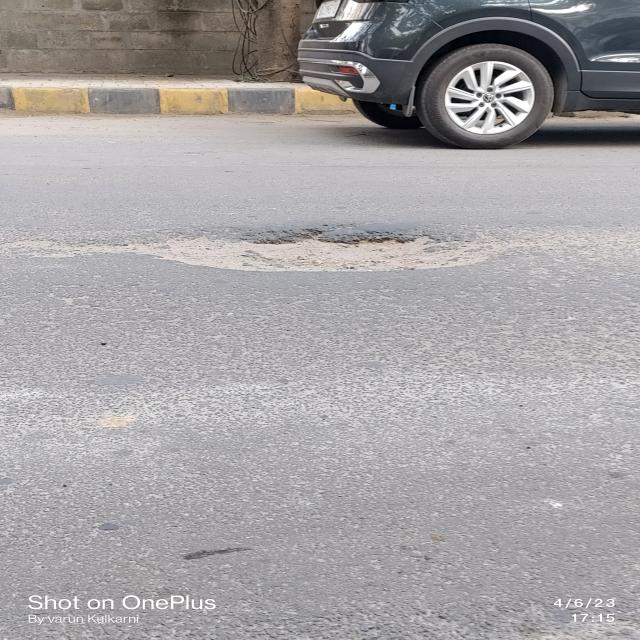potholes: (117, 230, 489, 284)
